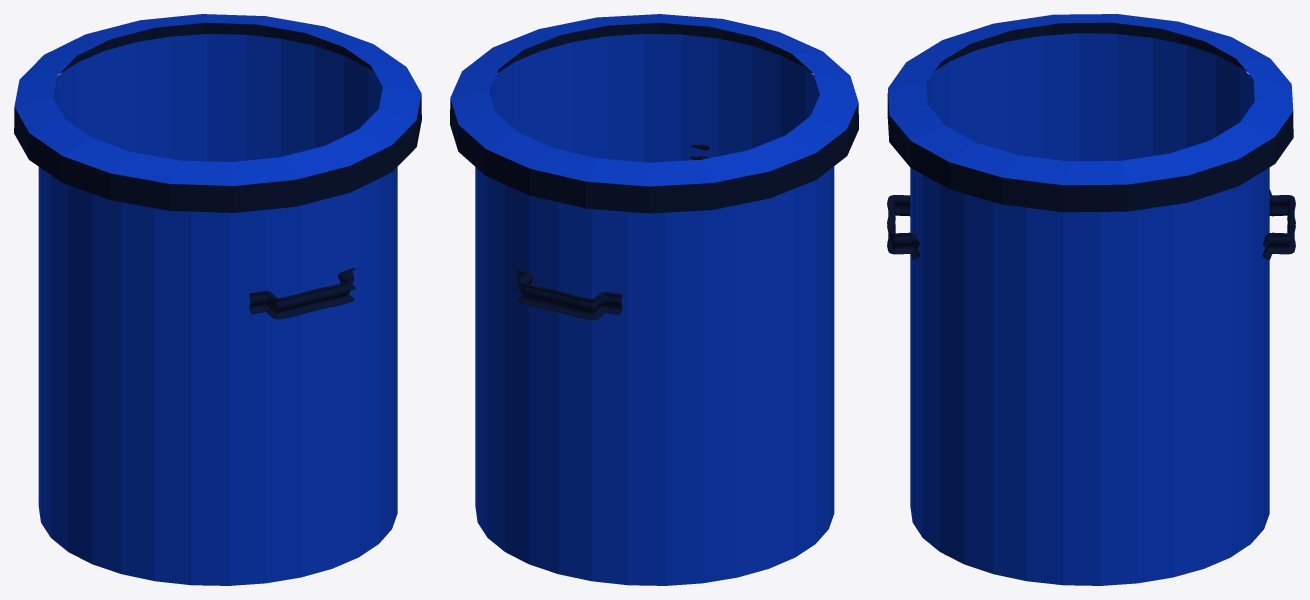
Rendered from Lixeira.obj.
3 renders of one model, left to right at view 1: azimuth 30°, elevation 25°; view 2: azimuth 150°, elevation 25°; view 3: azimuth 270°, elevation 25°, orthographic.
Visible parts, largest first — view 1: Mesh_binlid; view 2: Mesh_binlid; view 3: Mesh_binlid.
Part boxes in pixels (x1,y1,x2,y2): Mesh_binlid: [14, 14, 421, 585]; Mesh_binlid: [450, 14, 858, 585]; Mesh_binlid: [887, 14, 1295, 585].
Bounding box in the file's own units: 1.46 × 1.66 × 1.47.
